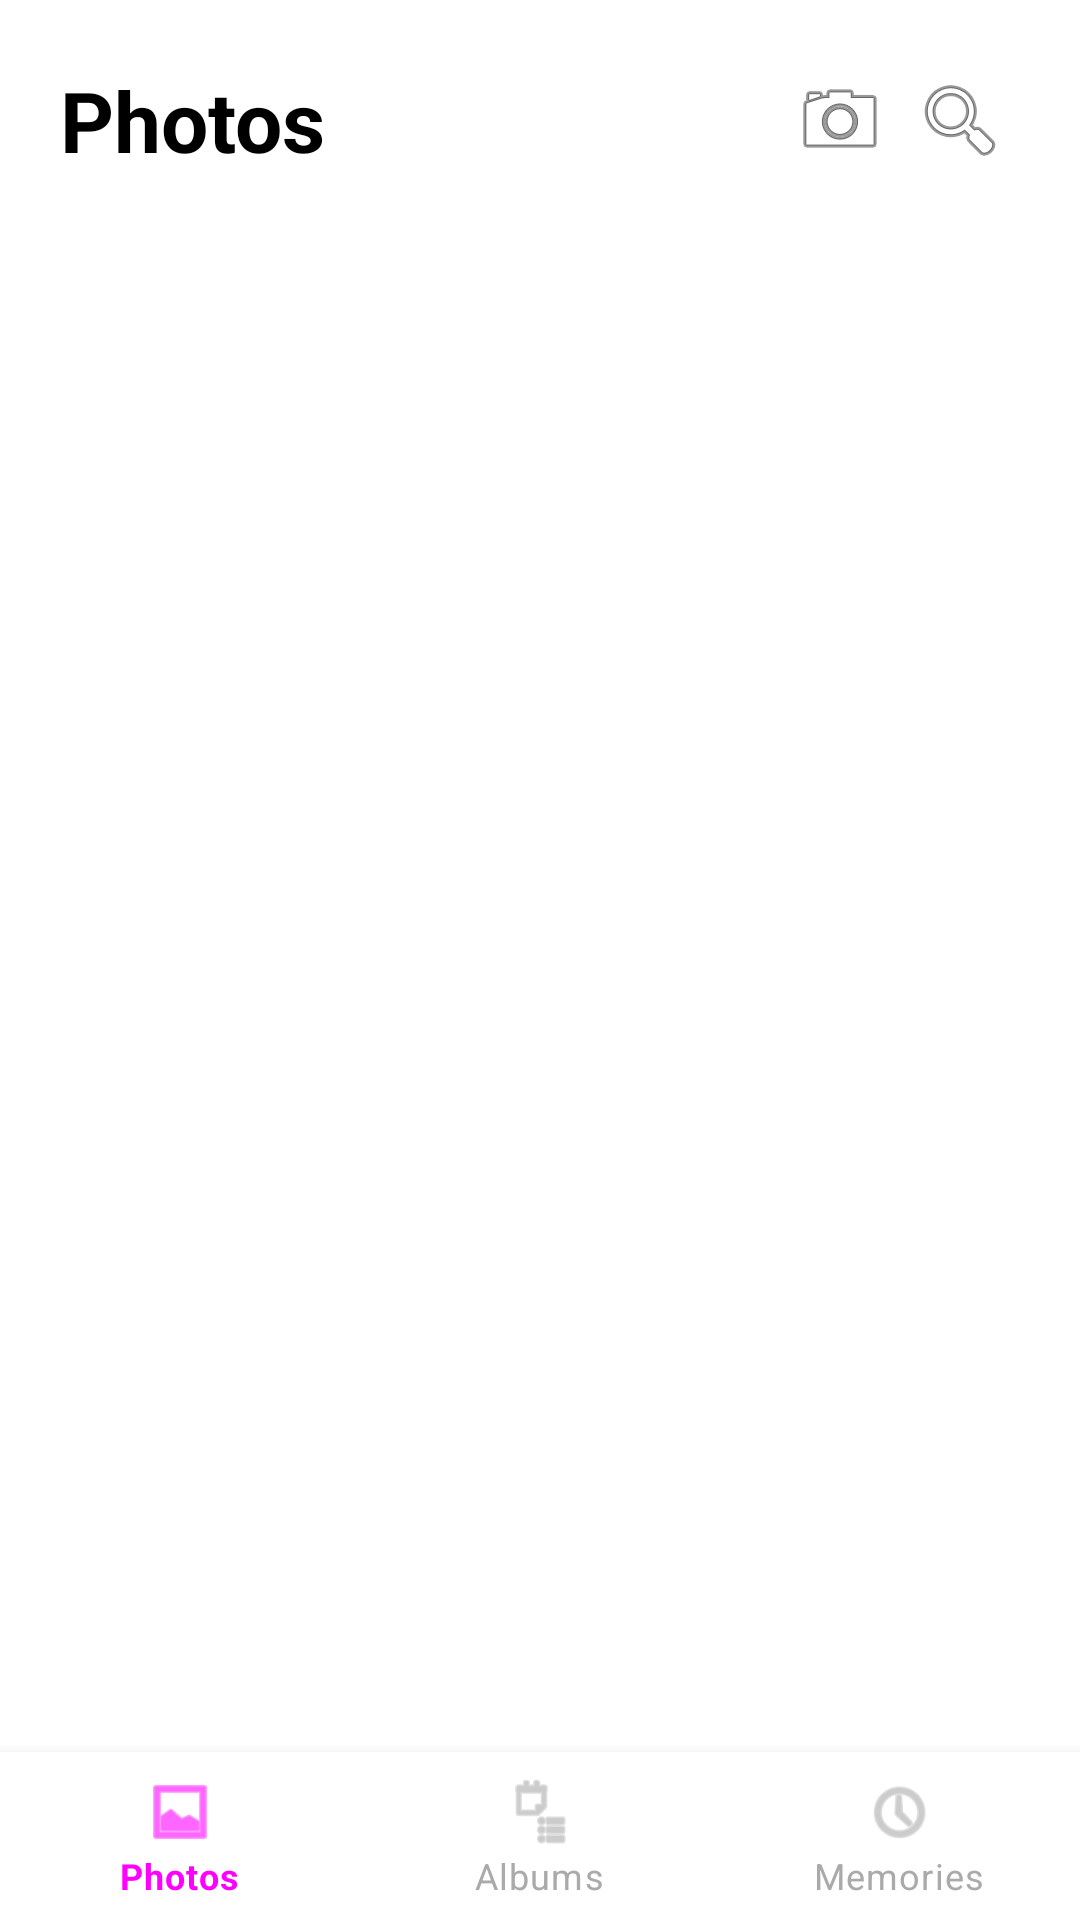

Locate icon controls on the screen. Image size 1080×1920, boxes as (x1, y1, x2, y2).
Camera: (803, 89, 877, 148)
